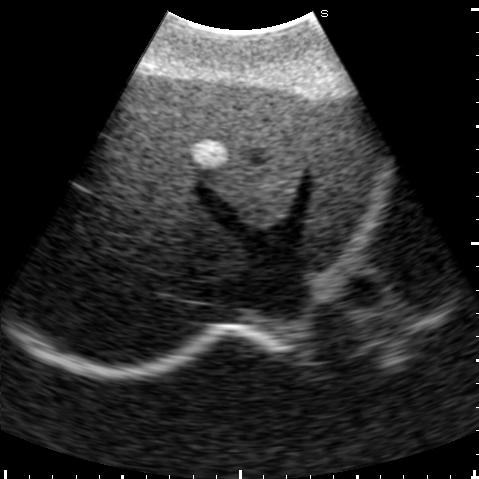S2: (304, 99, 377, 274)
S4: (119, 73, 310, 225)
S7: (19, 218, 190, 360)
S8: (77, 123, 245, 279)
Tumor: (195, 139, 228, 168)
